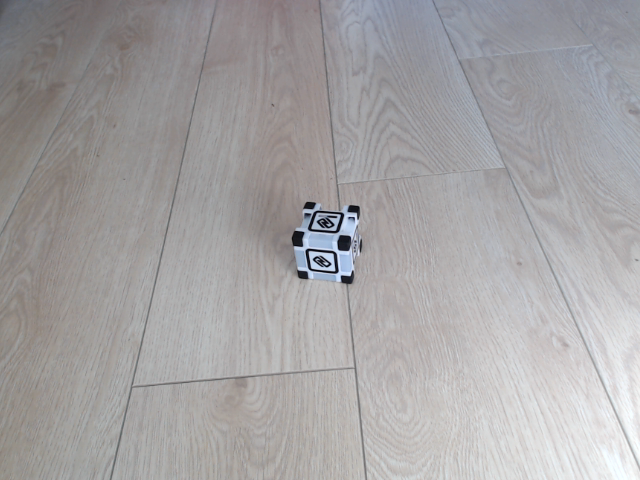block: (291, 200, 366, 287)
